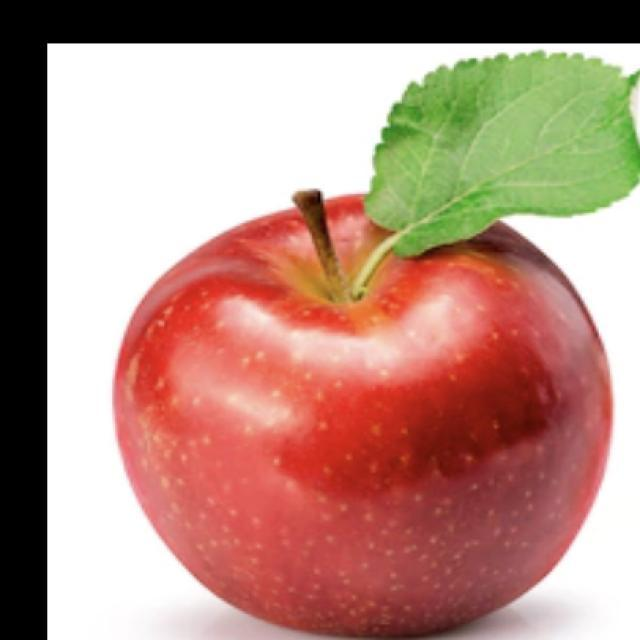Fresh Apple: (91, 196, 640, 640)
